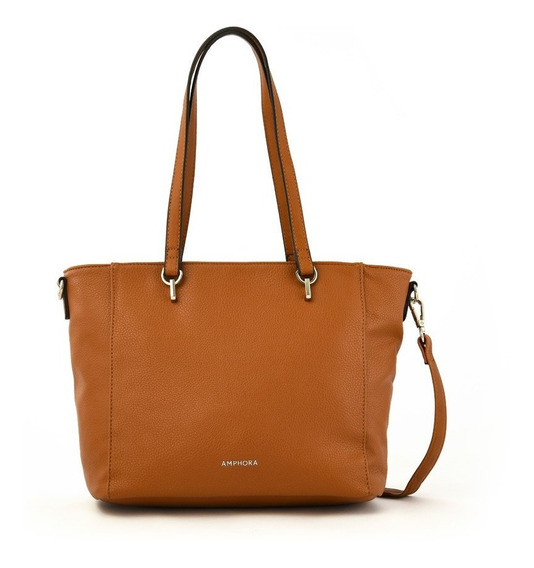cartera: (58, 26, 451, 512)
